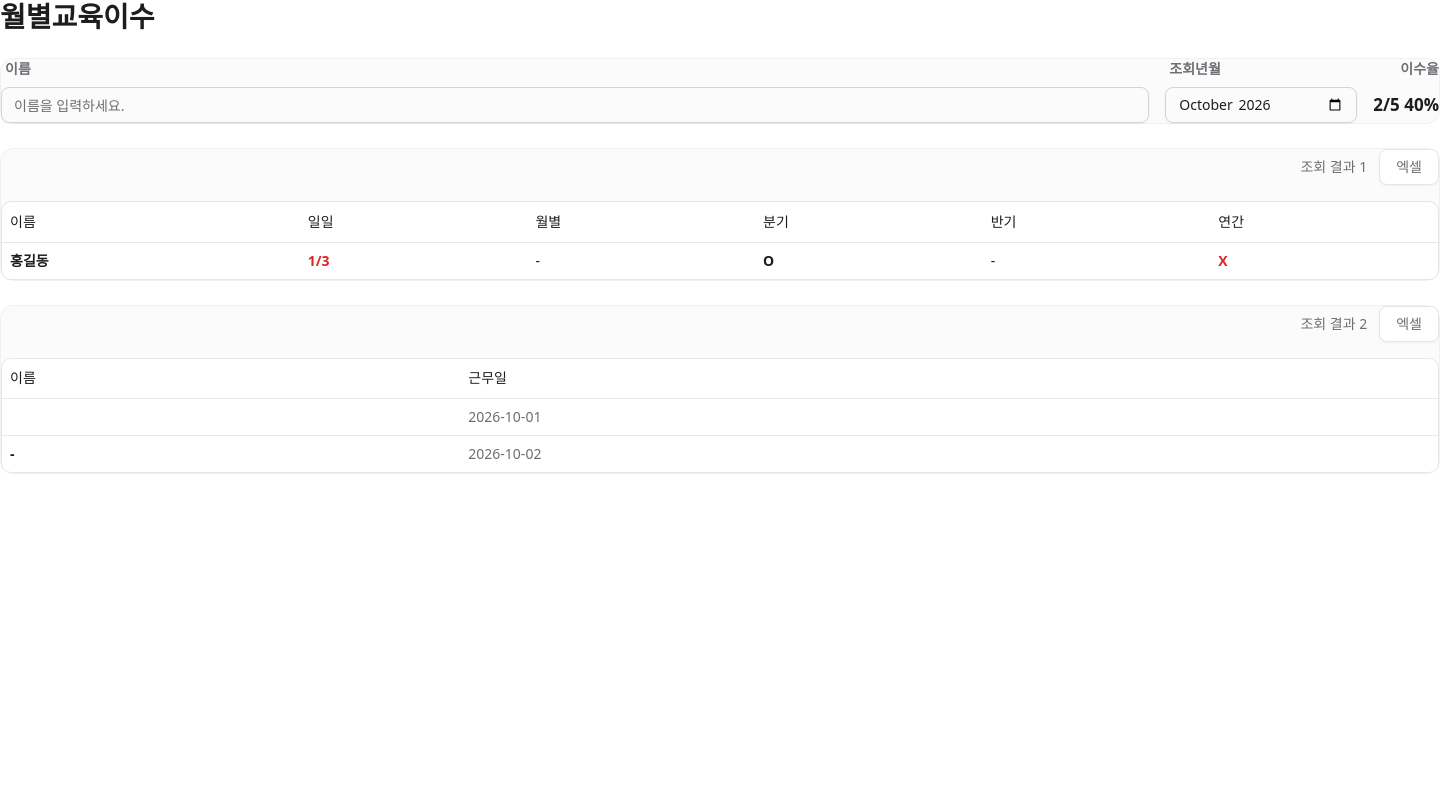
Scenario: keeps the daily fraction and shows monthly O/X marks with the completion action
This screenshot has width=1440, height=810.
Expected: the cells read "홍길동", "1/3", "-", "O", "-", "X", in this order, [2,242,300,279]; [300,242,527,279]; [527,242,755,279]; [755,242,983,279]; [983,242,1210,279]; [1210,242,1438,279]
Expected: the column heading "일일" is shown, [300,202,527,242]
Click the button named "홍길동 근무자 연간 교육 미이수 처리" at point(1223, 261), box [1218,251,1228,271]
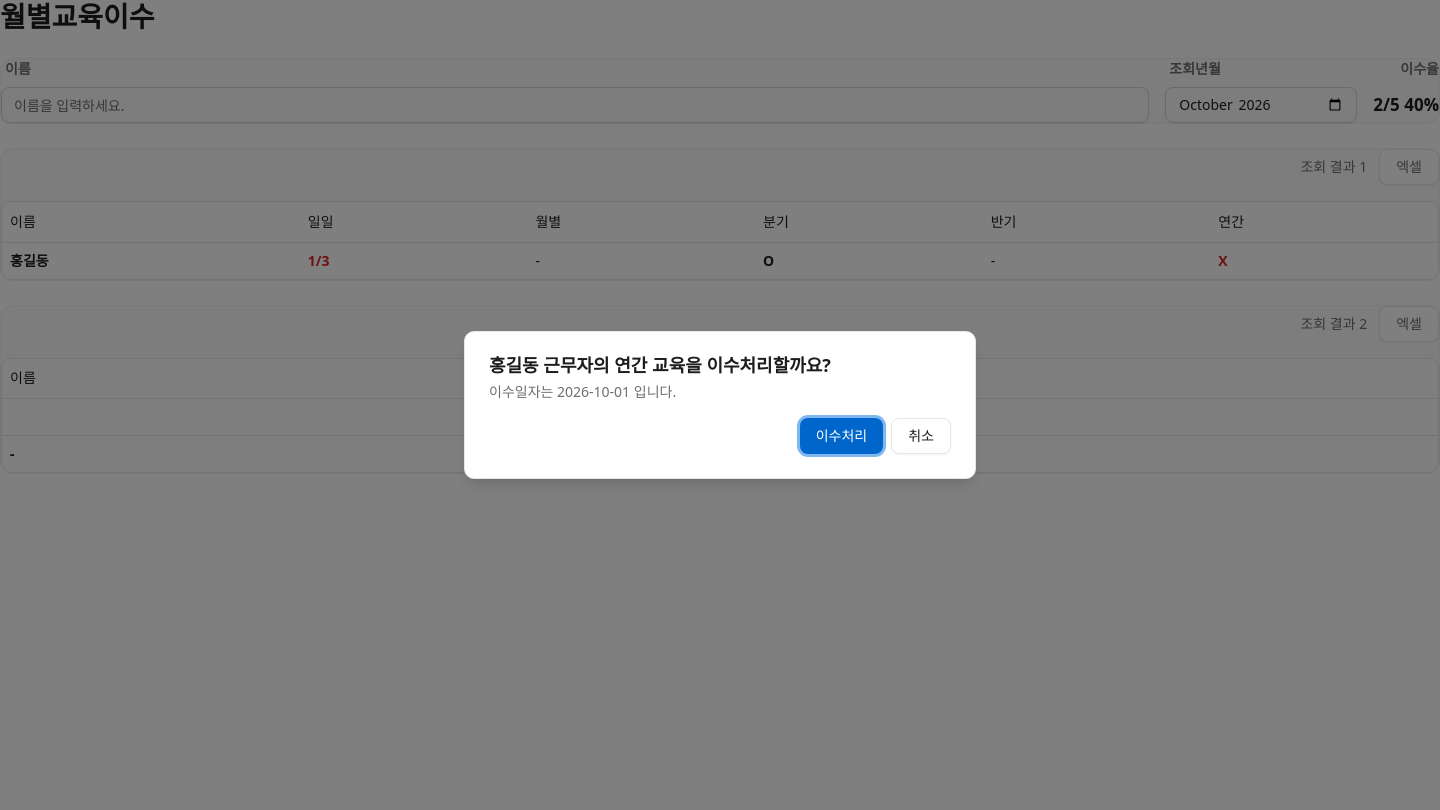
Now the dialog shows "연간 교육을 이수처리할까요?", box [489,353,831,377]
Click the button "이수처리" at point(841, 436), box [800,418,883,454]
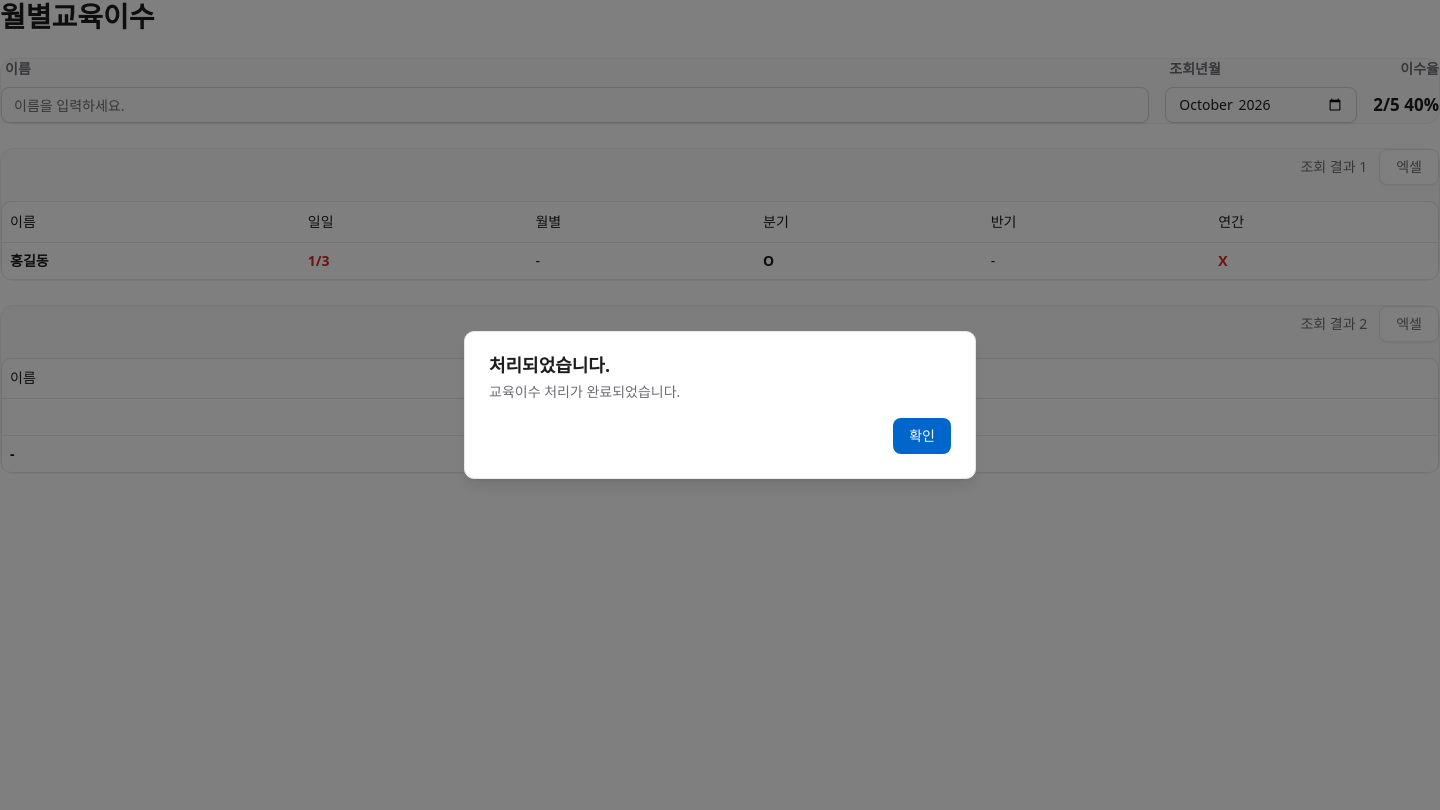
Now the heading "처리되었습니다." is shown, box [489,353,610,377]
Click the button "확인" at point(922, 436), box [893,418,951,454]
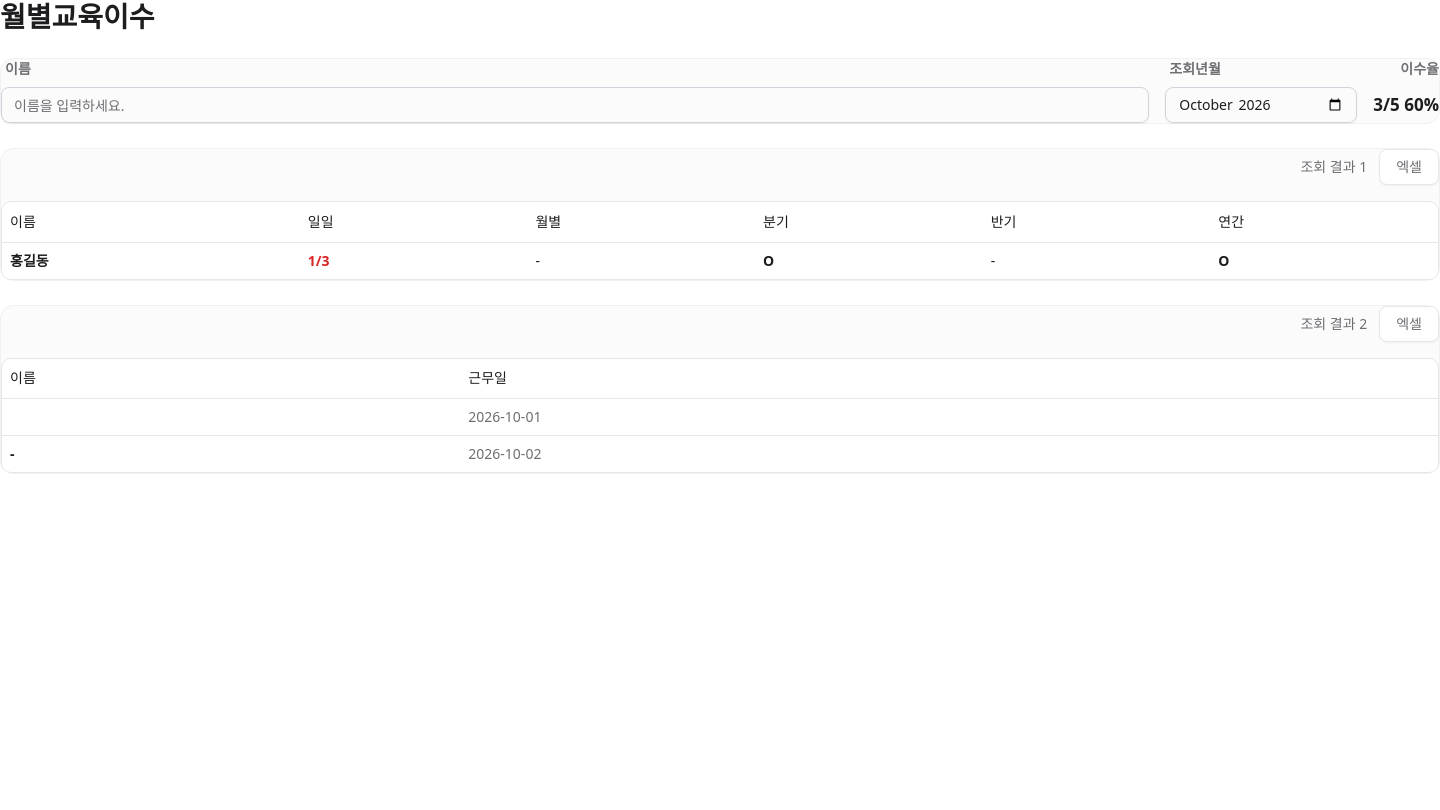
Now the cells read "홍길동", "1/3", "-", "O", "-", "O", in this order, box [2,242,300,279]; [300,242,527,279]; [527,242,755,279]; [755,242,983,279]; [983,242,1210,279]; [1210,242,1438,279]
Now the text "3/5 60%" is shown, box [1373,87,1439,123]
